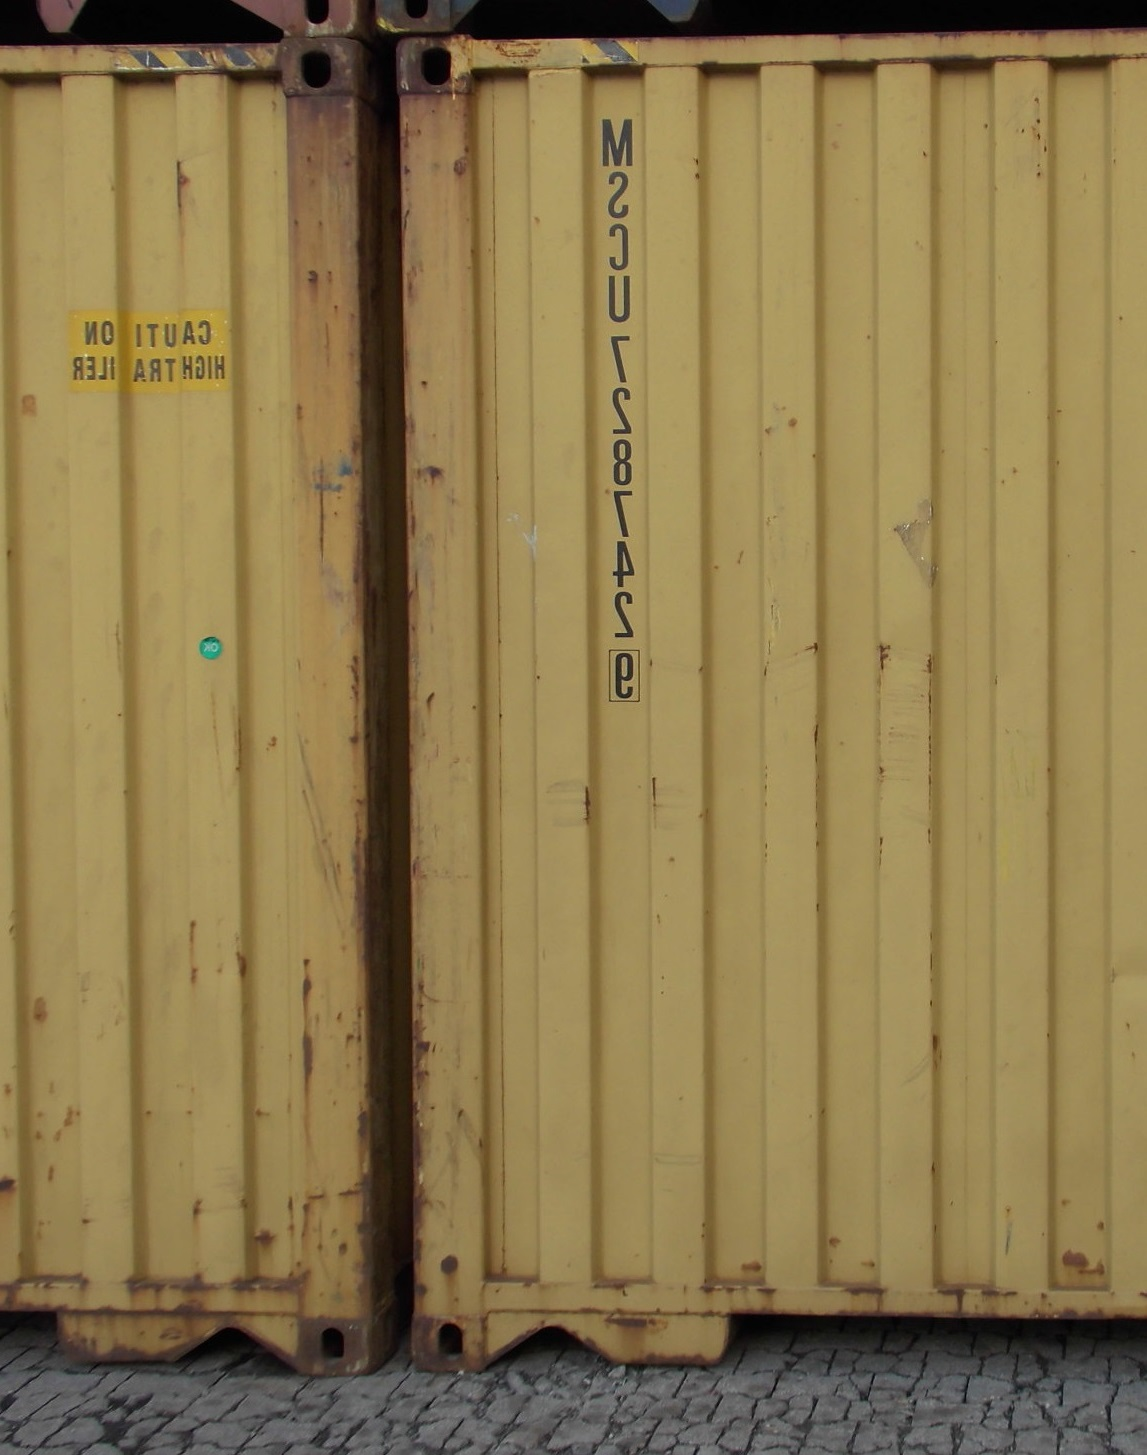container_no_door: (400, 32, 1146, 1366), (1, 44, 371, 1369)
